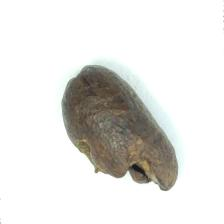NG: (74, 138, 178, 194)
